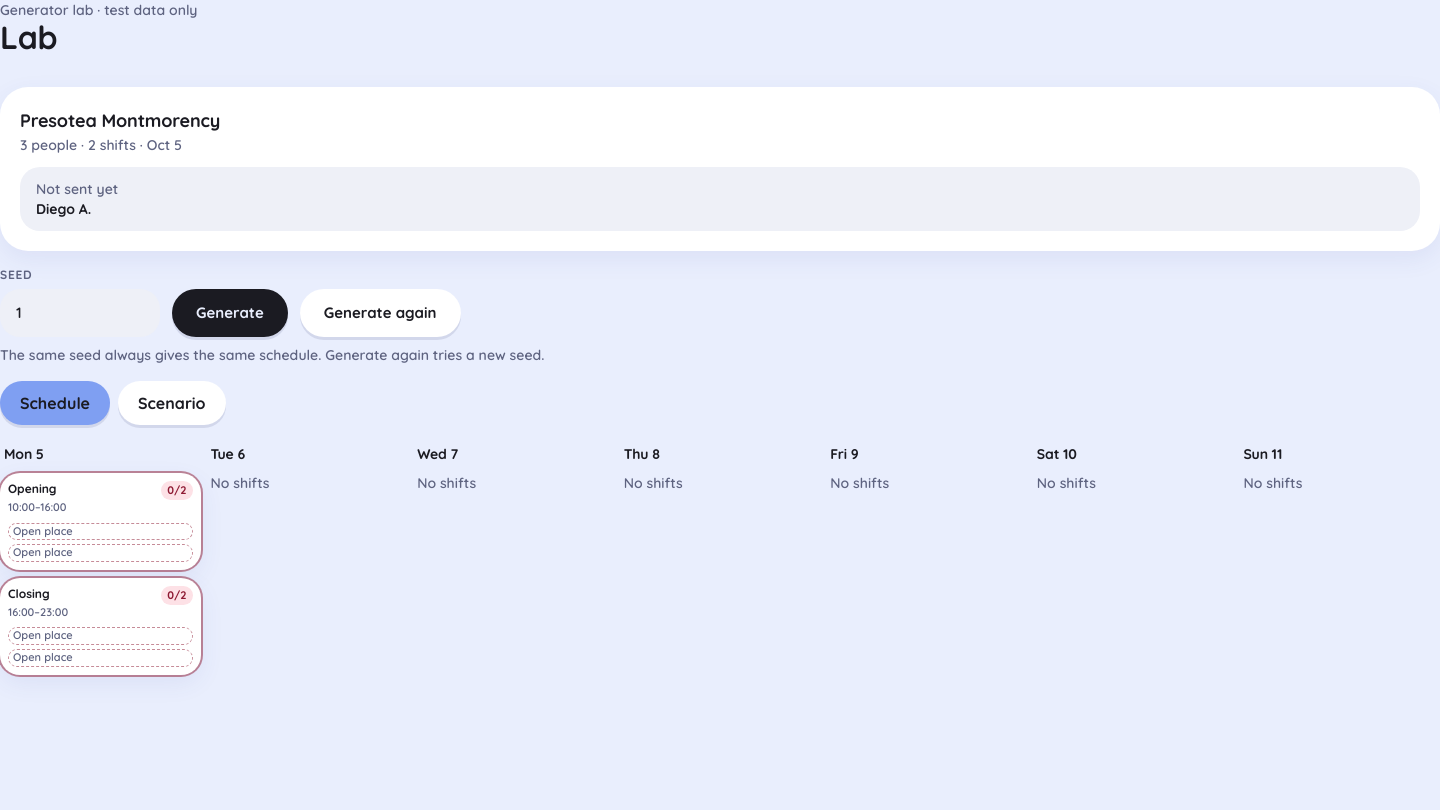
Test case: LabPage › marks a shift missing its level on the grid, as "No level 3" (1l)
Click the button "Generate".
click(230, 313)  # box [172,289,288,337]
(page scrolled)
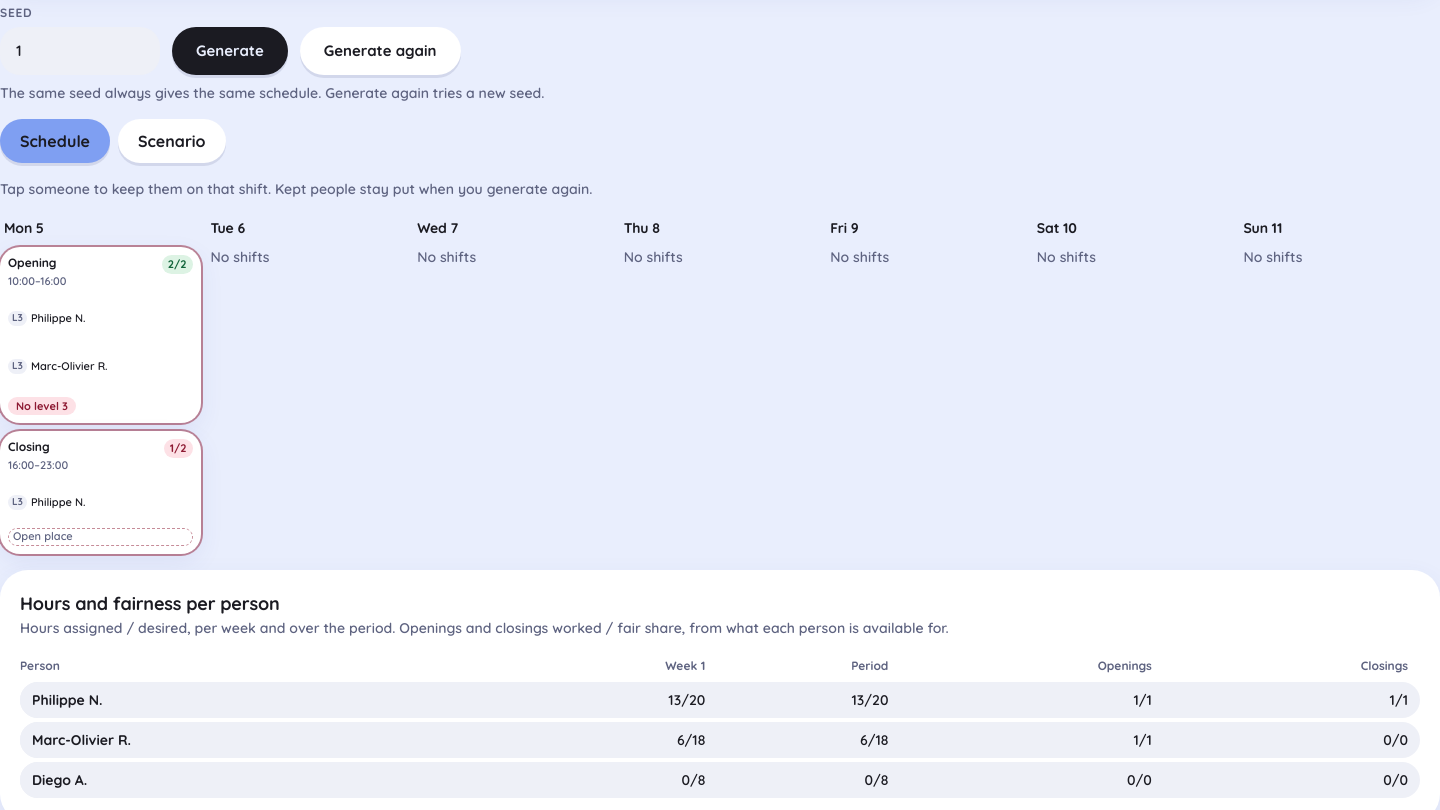
expect the text "No level 3" is shown: met, box [8,396,76,415]
